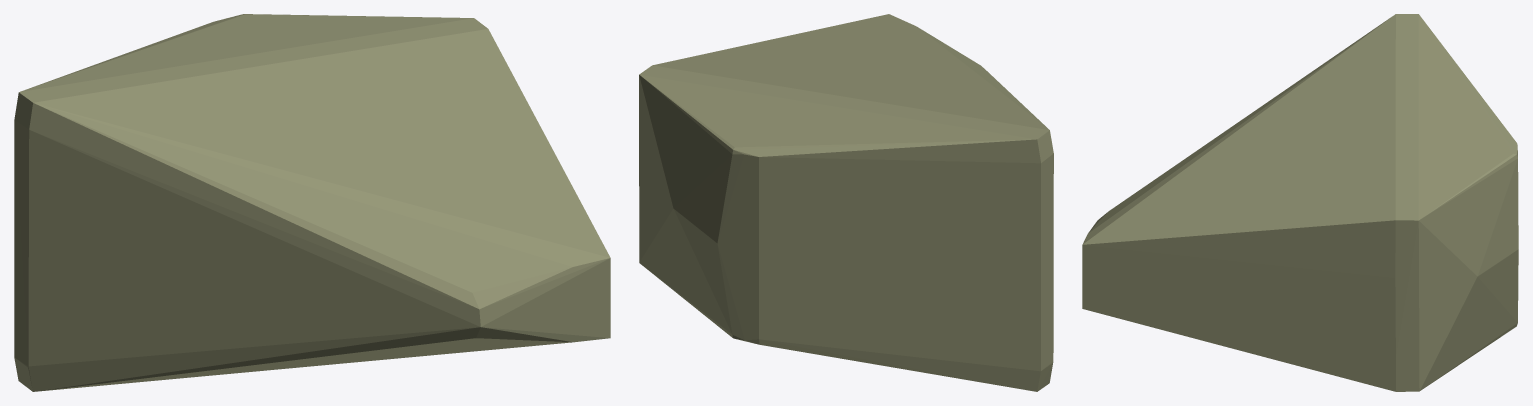
File: serviceTool_engine_stand_b01.glb
3 views of the same model, side by side, from view 1: azimuth 30°, elevation 25°; view 2: azimuth 150°, elevation 25°; view 3: azimuth 270°, elevation 25° (orthographic). The views are drawn at different scales.
Visible parts, largest first — view 1: geometry_0; view 2: geometry_0; view 3: geometry_0.
Boxes of the visible parts, x1,y1,x2,y2 form: geometry_0: (14, 14, 610, 391); geometry_0: (639, 14, 1053, 391); geometry_0: (1082, 14, 1518, 391).
Size of the model in its own units: 0.4651 by 0.2794 by 0.4793.
